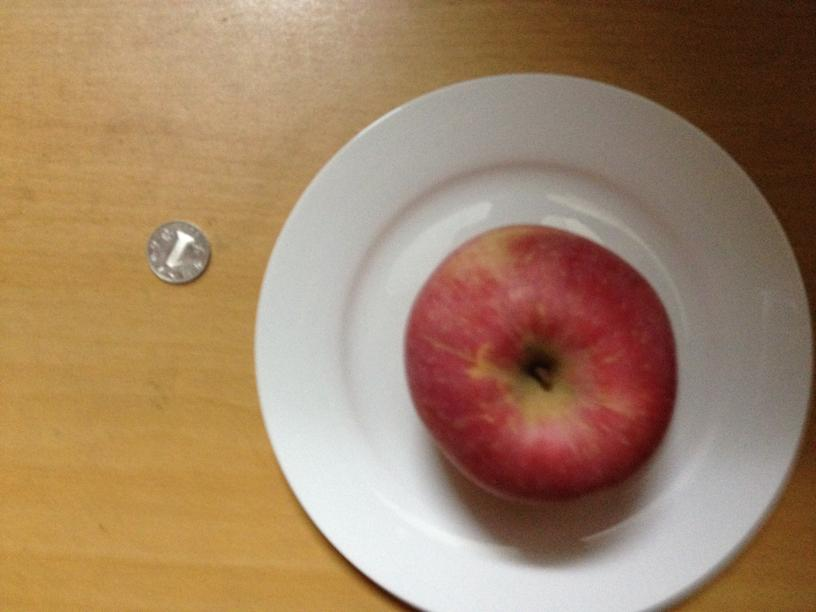apple: (404, 229, 678, 503)
coin: (145, 220, 210, 283)
